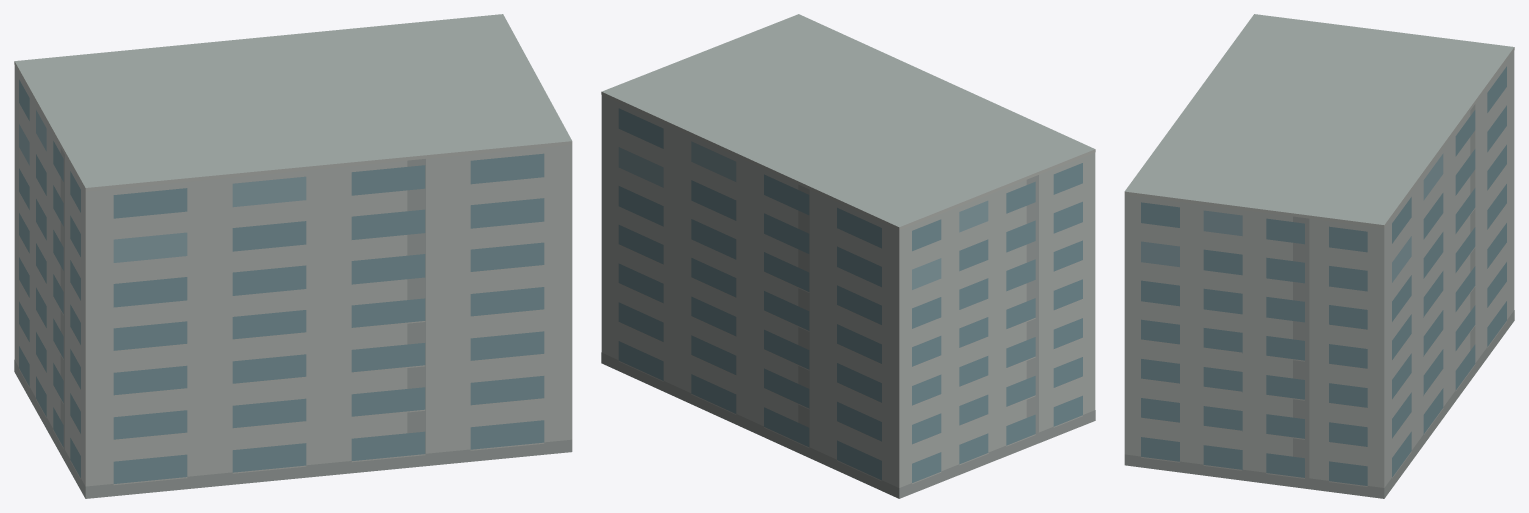
Rendered from survey-upis-32861213.glb.
3 views of the same model, side by side, from view 1: azimuth 30°, elevation 25°; view 2: azimuth 150°, elevation 25°; view 3: azimuth 270°, elevation 25° (orthographic). The views are drawn at different scales.
Parts seen in each view (by area): view 1: survey-upis-32861213.tmp; view 2: survey-upis-32861213.tmp; view 3: survey-upis-32861213.tmp.
Part boxes in pixels (x1,y1,x2,y2): survey-upis-32861213.tmp: (14, 14, 572, 498); survey-upis-32861213.tmp: (601, 14, 1095, 498); survey-upis-32861213.tmp: (1124, 14, 1514, 498).
Bounding box in the file's own units: 35.33 × 21.35 × 27.57.
